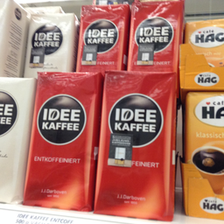coffee: (94, 70, 179, 221), (24, 70, 101, 212), (128, 2, 183, 70), (24, 11, 77, 77), (76, 2, 126, 71)
